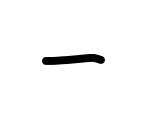minus: (42, 53, 103, 67)
